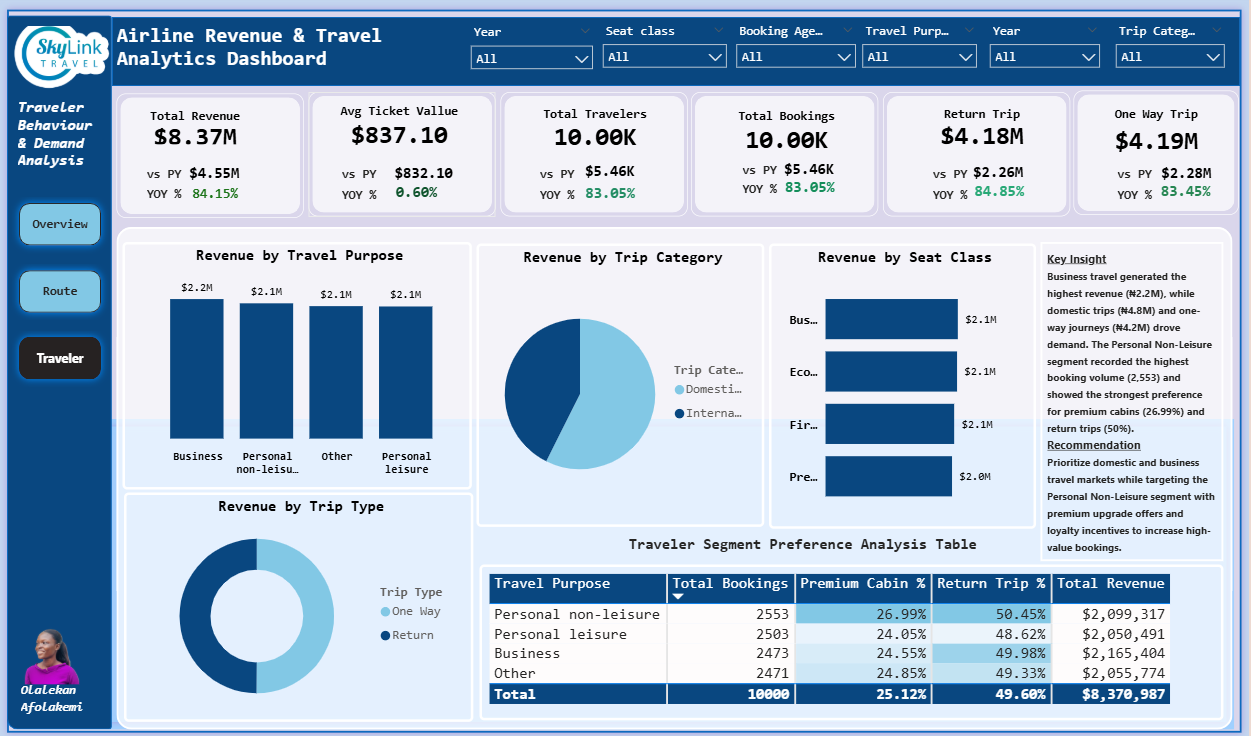

Layout of this report page (visuals, bound fields, positions):
{"tool":"powerbi","page":{"name":"Traveler","canvas":[1350,800],"ordinal":2},"visuals":[{"type":"shape","box":[24.1,9.3,1325.9,783.3],"z":0},{"type":"shape","box":[39.8,452,1293.9,329.4],"z":1000},{"type":"shape","box":[148,248.3,1184.1,533.2],"z":2000},{"type":"shape","box":[143.2,25.5,1196.8,73.2],"z":3000},{"type":"shape","box":[148,106.6,198.9,132.1],"z":4000},{"type":"slicer","fields":{"Values":["Flights.Trip Type"]},"box":[1064.7,27.1,136.9,60.5],"z":5000},{"type":"card","title":"Total Revenue","fields":{"Values":["Measure.Total Revenue"]},"box":[148.1,122.2,166.7,42.6],"z":6000},{"type":"card","title":"vs PY","fields":{"Values":["Measure.Previous Year Revenue"]},"box":[197.4,171.9,108.2,39.8],"z":7000},{"type":"slicer","fields":{"Values":["Flights.Travel Purpose"]},"box":[929.5,27.1,141.6,60.5],"z":8000},{"type":"slicer","fields":{"Values":["Flights.Trip Category"]},"box":[1198.4,27.1,135.3,60.5],"z":9000},{"type":"slicer","fields":{"Values":["Flights.Seat class"]},"box":[654.1,27.1,151.2,60.5],"z":10000},{"type":"slicer","fields":{"Values":["Flights.Booking Agency"]},"box":[795.8,27.1,146.4,60.5],"z":11000},{"type":"shape","box":[31.5,24.1,111.1,757.4],"z":12000},{"type":"textbox","box":[175.1,176.7,52.5,31.8],"z":13000},{"type":"card","fields":{"Values":["Measure.YOY %"]},"box":[206.9,198.9,90.7,30.2],"z":14000},{"type":"textbox","box":[175.1,197.4,52.5,36.6],"z":15000},{"type":"shape","box":[351.7,105,198.9,132.1],"z":16000},{"type":"shape","box":[555.4,105,198.9,132.1],"z":17000},{"type":"shape","box":[757.6,105,198.9,132.1],"z":18000},{"type":"shape","box":[961.3,105,198.9,132.1],"z":19000},{"type":"shape","box":[1163.4,103.5,175.1,132.1],"z":20000},{"type":"card","title":"Avg Ticket Vallue","fields":{"Values":["Measure.Avg Ticket Value"]},"box":[351.9,118.5,192.6,48.1],"z":21000},{"type":"card","title":"Total Travelers","fields":{"Values":["Measure.Total Travelers"]},"box":[564.8,120.4,181.5,46.3],"z":22000},{"type":"card","title":"Total Bookings","fields":{"Values":["Measure.Total Bookings"]},"box":[772.2,122.2,174.1,48.1],"z":23000},{"type":"card","title":" Return Trip","fields":{"Values":["Measure.Revenue from Return Trips"]},"box":[981.5,120.4,168.5,44.4],"z":24000},{"type":"card","title":" One Way Trip","fields":{"Values":["Measure.Revenue from One Way Trips"]},"box":[1170.4,120.4,163,53.7],"z":25000},{"type":"textbox","box":[381.5,175.9,70.4,31.5],"z":26000},{"type":"textbox","box":[381.5,198.1,57.4,29.6],"z":27000},{"type":"textbox","box":[592.6,175.9,63,31.5],"z":28000},{"type":"textbox","box":[592.6,198.1,57.4,29.6],"z":29000},{"type":"textbox","box":[807.4,172.2,64.8,35.2],"z":30000},{"type":"textbox","box":[807.4,192.6,50,35.2],"z":31000},{"type":"textbox","box":[1009.3,175.9,51.9,31.5],"z":32000},{"type":"textbox","box":[1009.3,198.1,70.4,29.6],"z":33000},{"type":"textbox","box":[1205.6,175.9,63,31.5],"z":34000},{"type":"textbox","box":[1205.6,198.1,63,29.6],"z":35000},{"type":"card","title":" One Way Trip","fields":{"Values":["Measure.Avg Ticket Value YOY %"]},"box":[405.6,196.3,120.4,33.3],"z":36000},{"type":"card","title":" One Way Trip","fields":{"Values":["Measure.Py Avg Ticket Value"]},"box":[425.9,175.9,94.4,29.6],"z":37000},{"type":"card","title":" One Way Trip","fields":{"Values":["Measure.Bookings YOY %"]},"box":[837,190.7,92.6,31.5],"z":38000},{"type":"card","title":" One Way Trip","fields":{"Values":["Measure.Py Bookings"]},"box":[831.5,172.2,103.7,31.5],"z":39000},{"type":"card","title":" One Way Trip","fields":{"Values":["Measure.Travelers YOY %"]},"box":[627.8,198.1,88.9,24.1],"z":40000},{"type":"card","title":" One Way Trip","fields":{"Values":["Measure.Py Travelers"]},"box":[611.1,174.1,120.4,33.3],"z":41000},{"type":"card","title":" One Way Trip","fields":{"Values":["Measure.Return YOY %"]},"box":[1040.7,196.3,87,29.6],"z":42000},{"type":"card","title":" One Way Trip","fields":{"Values":["Measure.Py Return Trip"]},"box":[1031.5,175.9,103.7,24.1],"z":43000},{"type":"card","title":" One Way Trip","fields":{"Values":["Measure.One Way YOY %"]},"box":[1240.7,194.4,81.5,33.3],"z":44000},{"type":"card","title":" One Way Trip","fields":{"Values":["Measure.Py One Way Trip"]},"box":[1242.6,175.9,79.6,29.6],"z":45000},{"type":"textbox","box":[143.2,27.1,308.8,73.2],"z":46000},{"type":"textbox","box":[38.2,106.6,105,105],"z":47000},{"type":"image","box":[38.9,35.2,103.7,66.7],"z":48000},{"type":"pageNavigator","box":[36.6,214.9,103.5,203.7],"z":49000},{"type":"image","box":[47.7,666.9,60.5,66.8],"z":51000},{"type":"textbox","box":[41.4,724.2,103.5,47.7],"z":52000},{"type":"columnChart","title":"Revenue by Travel Purpose","fields":{"Category":["Flights.Travel Purpose"],"Y":["Measure.Total Revenue"]},"box":[154.4,264.2,370.8,262.6],"z":54000},{"type":"donutChart","title":"Revenue by Trip Type","fields":{"Category":["Flights.Trip Type"],"Y":["Measure.Total Revenue"]},"box":[156,530,370.8,243.5],"z":55000},{"type":"pieChart","title":"Revenue by Trip Category","fields":{"Category":["Flights.Trip Category"],"Y":["Measure.Total Revenue"]},"box":[530,265.8,305.6,300.8],"z":56000},{"type":"barChart","title":"Revenue by Seat Class","fields":{"Category":["Flights.Seat class"],"Y":["Measure.Total Revenue"]},"box":[840.3,265.8,283.3,302.4],"z":57000},{"type":"tableEx","fields":{"Values":["Flights.Travel Purpose","Measure.Total Bookings","Measure.Premium Cabin %","Measure.Return Trip %","Measure.Total Revenue"]},"box":[533.2,606.4,789.4,165.5],"z":58000},{"type":"slicer","fields":{"Values":["Table Date.Year"]},"box":[514.1,28.6,149.6,58.9],"z":59000},{"type":"textbox","box":[655.7,569.8,440.9,66.8],"z":60000},{"type":"textbox","box":[1128.4,264.2,194.2,339],"z":60001}]}

Visuals, with their boxes in screenshot pixels (x1, y1, x2, y2), scaled from the page's 1350x800 canvas onto the 1251x736 screenshot:
shape: <region>22, 9, 1250, 729</region>
shape: <region>37, 416, 1236, 719</region>
shape: <region>137, 228, 1234, 719</region>
shape: <region>133, 23, 1242, 91</region>
shape: <region>137, 98, 321, 220</region>
slicer - Flights.Trip Type: <region>987, 25, 1113, 81</region>
"Total Revenue" card: <region>137, 112, 292, 152</region>
"vs PY" card: <region>183, 158, 283, 195</region>
slicer - Flights.Travel Purpose: <region>861, 25, 993, 81</region>
slicer - Flights.Trip Category: <region>1111, 25, 1236, 81</region>
slicer - Flights.Seat class: <region>606, 25, 746, 81</region>
slicer - Flights.Booking Agency: <region>737, 25, 873, 81</region>
shape: <region>29, 22, 132, 719</region>
textbox: <region>162, 163, 211, 192</region>
card - Measure.YOY %: <region>192, 183, 276, 211</region>
textbox: <region>162, 182, 211, 215</region>
shape: <region>326, 97, 510, 218</region>
shape: <region>515, 97, 699, 218</region>
shape: <region>702, 97, 886, 218</region>
shape: <region>891, 97, 1075, 218</region>
shape: <region>1078, 95, 1240, 217</region>
"Avg Ticket Vallue" card: <region>326, 109, 505, 153</region>
"Total Travelers" card: <region>523, 111, 692, 153</region>
"Total Bookings" card: <region>716, 112, 877, 157</region>
" Return Trip" card: <region>910, 111, 1066, 152</region>
" One Way Trip" card: <region>1085, 111, 1236, 160</region>
textbox: <region>354, 162, 419, 191</region>
textbox: <region>354, 182, 407, 209</region>
textbox: <region>549, 162, 608, 191</region>
textbox: <region>549, 182, 602, 209</region>
textbox: <region>748, 158, 808, 191</region>
textbox: <region>748, 177, 795, 210</region>
textbox: <region>935, 162, 983, 191</region>
textbox: <region>935, 182, 1001, 209</region>
textbox: <region>1117, 162, 1176, 191</region>
textbox: <region>1117, 182, 1176, 209</region>
" One Way Trip" card: <region>376, 181, 487, 211</region>
" One Way Trip" card: <region>395, 162, 482, 189</region>
" One Way Trip" card: <region>776, 175, 861, 204</region>
" One Way Trip" card: <region>771, 158, 867, 187</region>
" One Way Trip" card: <region>582, 182, 664, 204</region>
" One Way Trip" card: <region>566, 160, 678, 191</region>
" One Way Trip" card: <region>964, 181, 1045, 208</region>
" One Way Trip" card: <region>956, 162, 1052, 184</region>
" One Way Trip" card: <region>1150, 179, 1225, 209</region>
" One Way Trip" card: <region>1151, 162, 1225, 189</region>
textbox: <region>133, 25, 419, 92</region>
textbox: <region>35, 98, 133, 195</region>
image: <region>36, 32, 132, 94</region>
pageNavigator: <region>34, 198, 130, 385</region>
image: <region>44, 614, 100, 675</region>
textbox: <region>38, 666, 134, 710</region>
"Revenue by Travel Purpose" columnChart: <region>143, 243, 487, 485</region>
"Revenue by Trip Type" donutChart: <region>145, 488, 488, 712</region>
"Revenue by Trip Category" pieChart: <region>491, 245, 774, 521</region>
"Revenue by Seat Class" barChart: <region>779, 245, 1041, 523</region>
tableEx - Flights.Travel Purpose x Measure.Total Bookings: <region>494, 558, 1226, 710</region>
slicer - Table Date.Year: <region>476, 26, 615, 80</region>
textbox: <region>608, 524, 1016, 586</region>
textbox: <region>1046, 243, 1226, 555</region>
